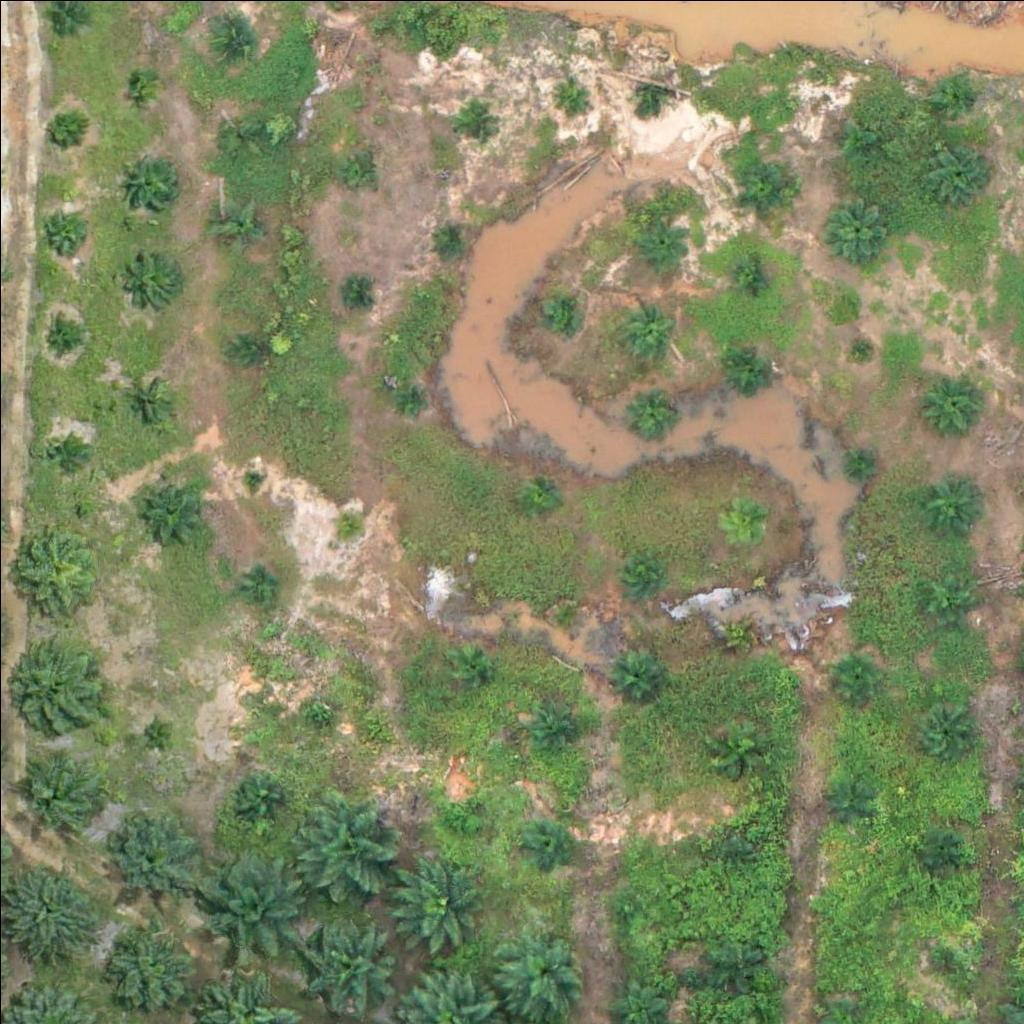Kelapa_Sawit: (190, 844, 303, 957), (9, 745, 109, 846), (7, 639, 107, 740), (2, 518, 102, 619), (296, 791, 396, 892), (393, 852, 493, 952), (306, 921, 394, 1009), (496, 923, 583, 1012), (107, 812, 194, 901), (108, 920, 195, 1008), (912, 470, 987, 546), (144, 475, 207, 538), (911, 701, 974, 764), (919, 372, 982, 434), (827, 205, 890, 267), (118, 148, 180, 211), (922, 145, 984, 208), (727, 154, 789, 216), (713, 724, 763, 775), (616, 644, 666, 695), (721, 487, 771, 538), (626, 386, 676, 437), (238, 773, 288, 824), (920, 822, 970, 873), (127, 257, 177, 308), (211, 200, 261, 251), (820, 778, 870, 829), (708, 615, 758, 666), (921, 565, 971, 615), (728, 348, 778, 398), (621, 303, 671, 353), (635, 217, 685, 267), (921, 930, 971, 980), (706, 936, 756, 986), (38, 211, 88, 261), (532, 700, 582, 750), (519, 823, 569, 873), (928, 74, 978, 124), (840, 111, 890, 161), (233, 328, 271, 366), (839, 447, 877, 485), (441, 800, 479, 838), (450, 649, 488, 687), (298, 693, 336, 731), (136, 712, 174, 750), (330, 503, 368, 541), (728, 258, 766, 296), (39, 434, 77, 472), (835, 661, 873, 698), (541, 291, 578, 329), (123, 62, 161, 99), (46, 317, 83, 355), (128, 384, 165, 422), (333, 274, 371, 311), (458, 98, 495, 136), (216, 116, 254, 153), (44, 113, 81, 151), (713, 833, 750, 871), (608, 888, 645, 926), (247, 564, 284, 602), (550, 603, 587, 641), (839, 333, 876, 371), (554, 74, 591, 112), (624, 554, 661, 591), (216, 18, 253, 55), (436, 226, 473, 263), (339, 148, 376, 185), (519, 481, 556, 518), (388, 383, 425, 420), (643, 80, 668, 106), (240, 467, 265, 492)
